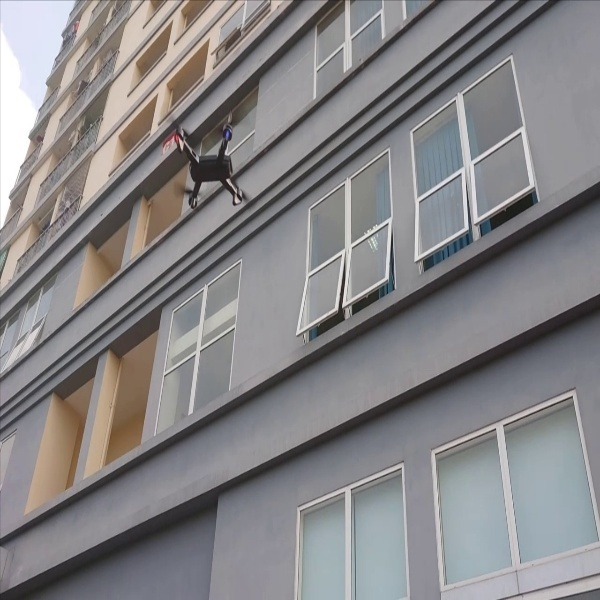drone: (169, 116, 253, 213)
